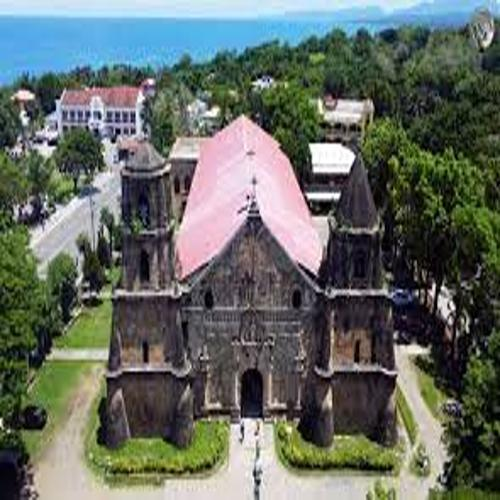Miagao Church: (91, 115, 406, 477)
